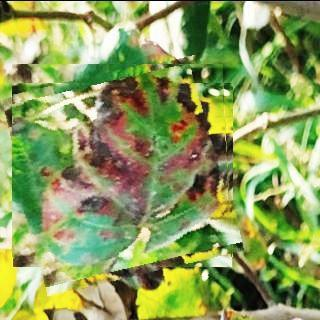blight: (12, 63, 234, 285)
